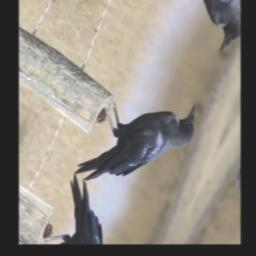Crow: (72, 55, 207, 228)
